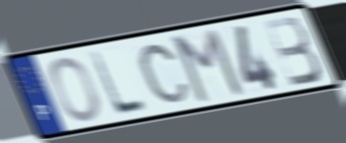4: (234, 22, 279, 94)
B: (261, 14, 325, 89)
C: (137, 42, 191, 105)
L: (87, 49, 151, 117)
M: (171, 26, 248, 106)
O: (48, 55, 102, 123)
